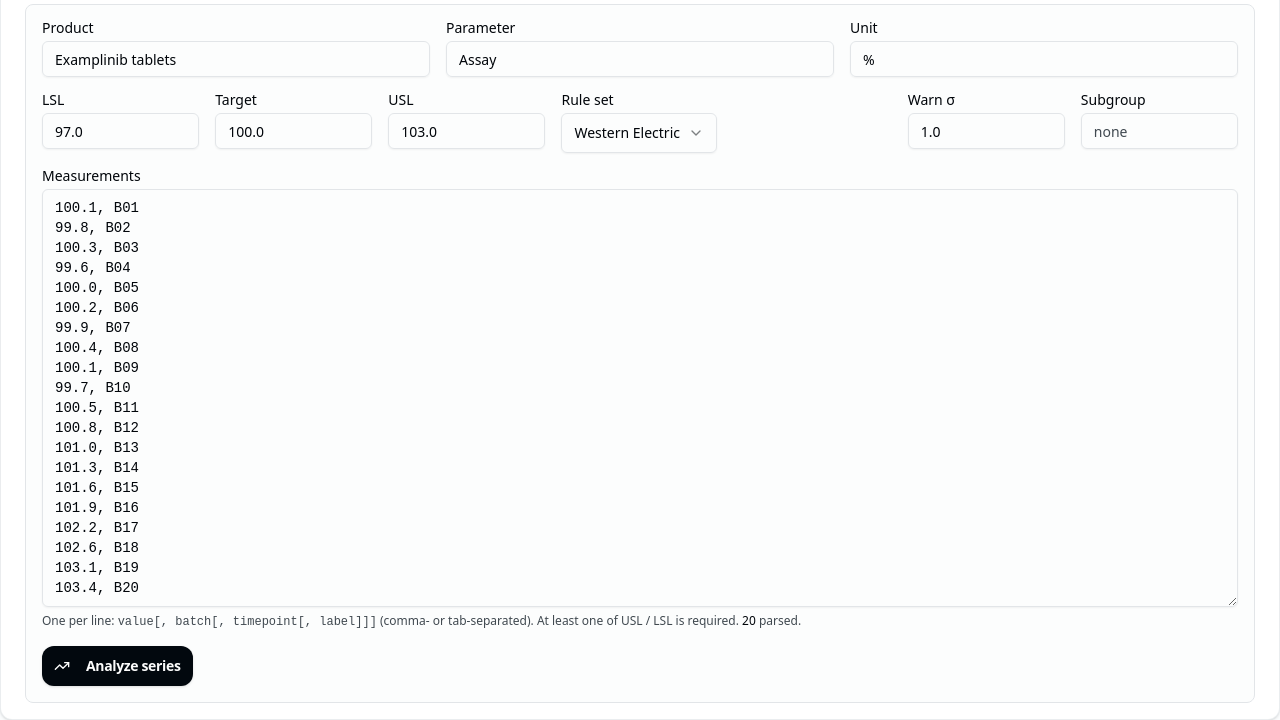
SPCProcessCapabilityPanel › POSTs the parsed series and renders capability, chart, signals, alerts, and the verbatim disclaimer
(page scrolled)
Click the button "Analyze series" at point(117, 666), box [42, 646, 192, 686]
(page scrolled)
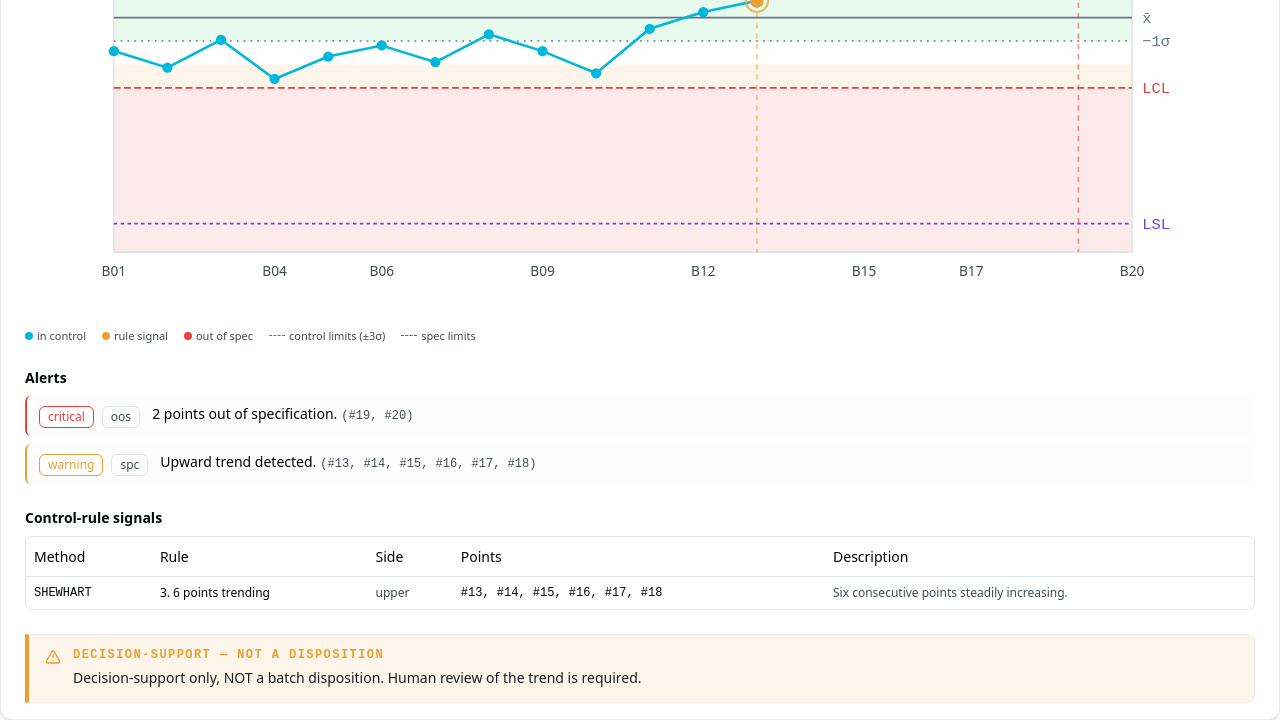
Now the text "3. 6 points trending" is shown, box [152, 577, 368, 609]
Now the text "2 points out of specification.(#19, #20)" is shown, box [152, 404, 413, 423]
Now the text "Decision-support only, NOT a batch disposition. Human review of the trend is required." is shown, box [73, 668, 642, 687]
